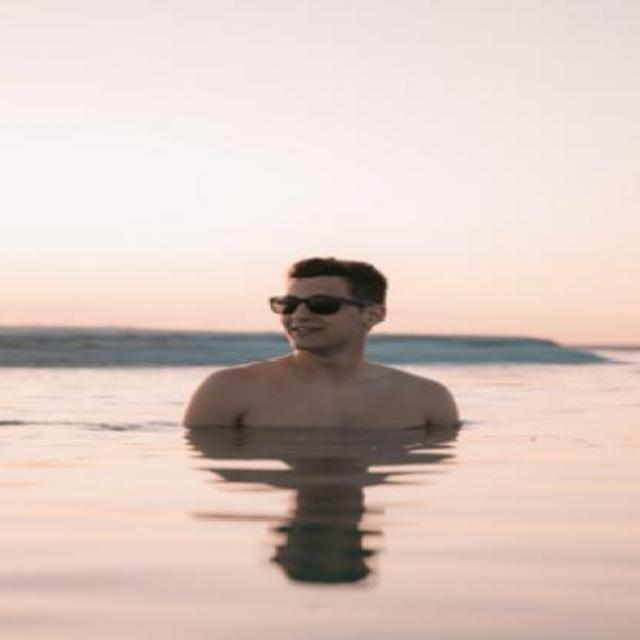sunglasses: (266, 295, 374, 313)
